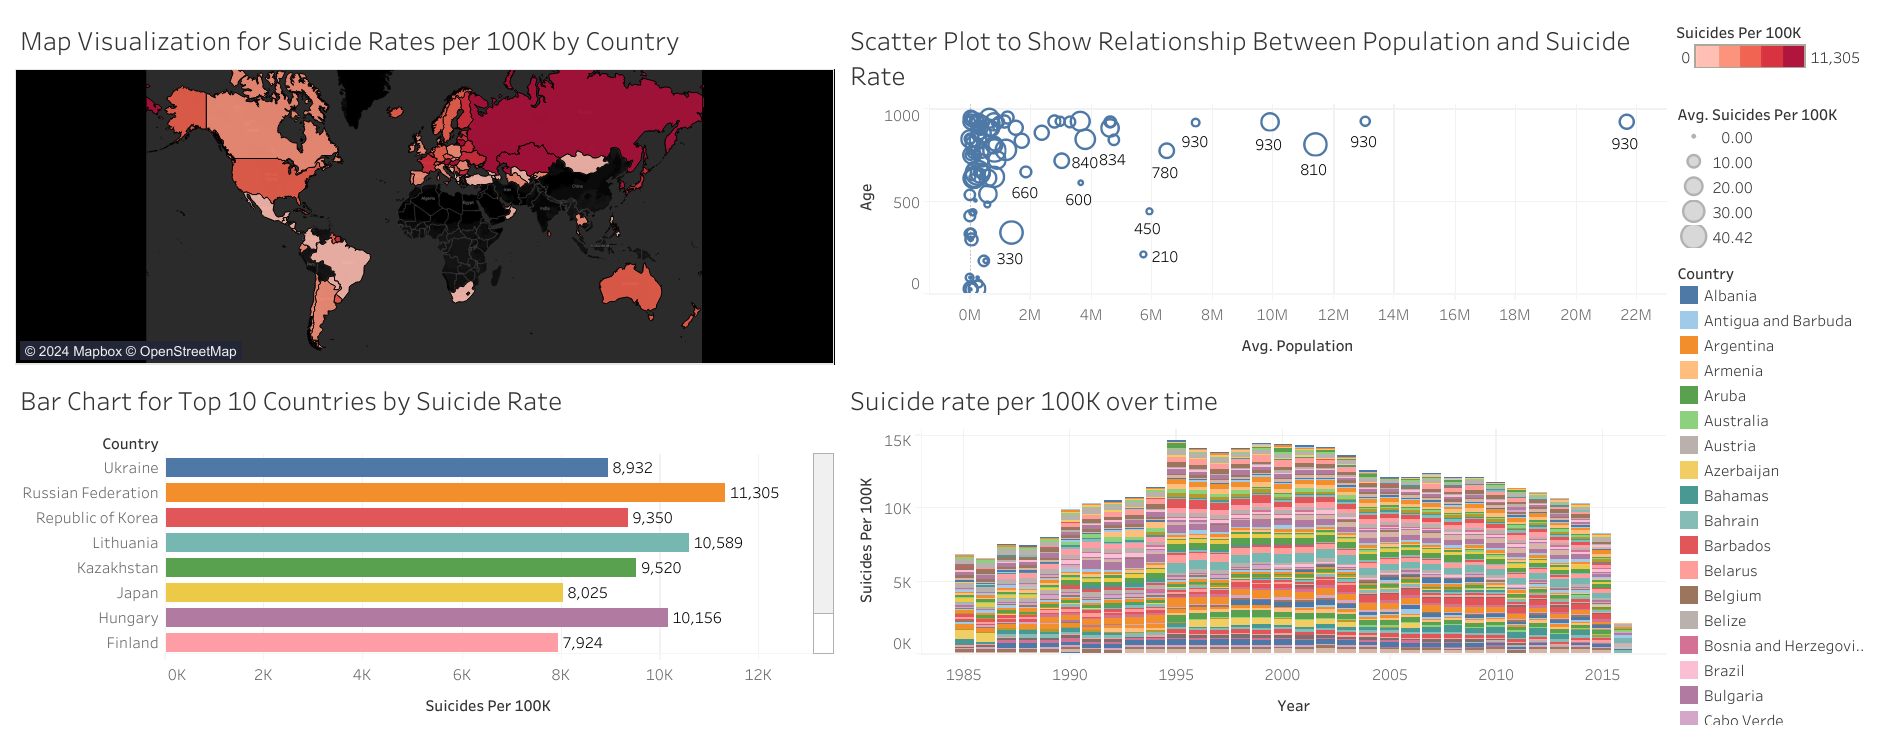

What the dashboard file says about the page in this screenshot:
{"tool":"tableau","page":{"name":"Global Suicide Trend Analysis Dasboard","canvas":[1000,1000],"units":"permille","ordinal":0},"visuals":[{"type":"worksheet","title":"Map Visualization for Suicide Rates per 100K by Country","mark":"Automatic","box":[6.1,13.9,433,486.1]},{"type":"worksheet","title":"Scatter Plot to Show Relationship Between Population and Suicide Rate","mark":"Automatic","rows":["age"],"cols":["population"],"box":[439.1,13.9,433,486.1]},{"type":"legend","title":"Map Visualization for Suicide Rates per 100K by Country","param":"[federated.0zgqtft0l9h3c711rurvc0723325].[sum:suicides_per_100k:qk]","box":[872.1,13.9,121.9,118.5]},{"type":"legend","title":"Scatter Plot to Show Relationship Between Population and Suicide Rate","param":"[federated.0zgqtft0l9h3c711rurvc0723325].[avg:suicides_per_100k:qk]","box":[872.1,132.4,121.9,221.3]},{"type":"legend","title":"Suicide rate per 100k  over time","param":"[federated.0zgqtft0l9h3c711rurvc0723325].[none:country:nk]","box":[872.1,353.7,121.9,632.4]},{"type":"worksheet","title":"Bar Chart for Top 10 Countries by Suicide Rate","mark":"Automatic","rows":["country"],"cols":["suicides_per_100k"],"box":[6.1,500,433,486.1]},{"type":"worksheet","title":"Suicide rate per 100k  over time","mark":"Bar","rows":["suicides_per_100k"],"cols":["year"],"box":[439.1,500,433,486.1]}]}

Visuals, with their boxes on the dashboard's canvas, which has no fixed pixel size, in thousandths of its width and height (x1, y1, x2, y2). These are canvas units, not pixel positions in the 1880x739 screenshot, which may show the page scaled, cropped or inside an application window:
"Map Visualization for Suicide Rates per 100K by Country" worksheet: box(6, 14, 439, 500)
"Scatter Plot to Show Relationship Between Population and Suicide Rate" worksheet: box(439, 14, 872, 500)
"Map Visualization for Suicide Rates per 100K by Country" legend: box(872, 14, 994, 132)
"Scatter Plot to Show Relationship Between Population and Suicide Rate" legend: box(872, 132, 994, 354)
"Suicide rate per 100k  over time" legend: box(872, 354, 994, 986)
"Bar Chart for Top 10 Countries by Suicide Rate" worksheet: box(6, 500, 439, 986)
"Suicide rate per 100k  over time" worksheet (Bar marks): box(439, 500, 872, 986)
